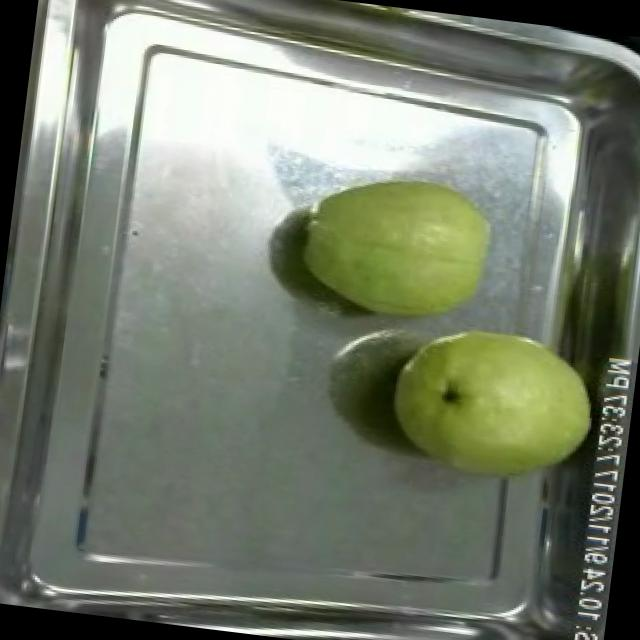Fruit: (373, 301, 614, 501), (284, 155, 514, 345)
